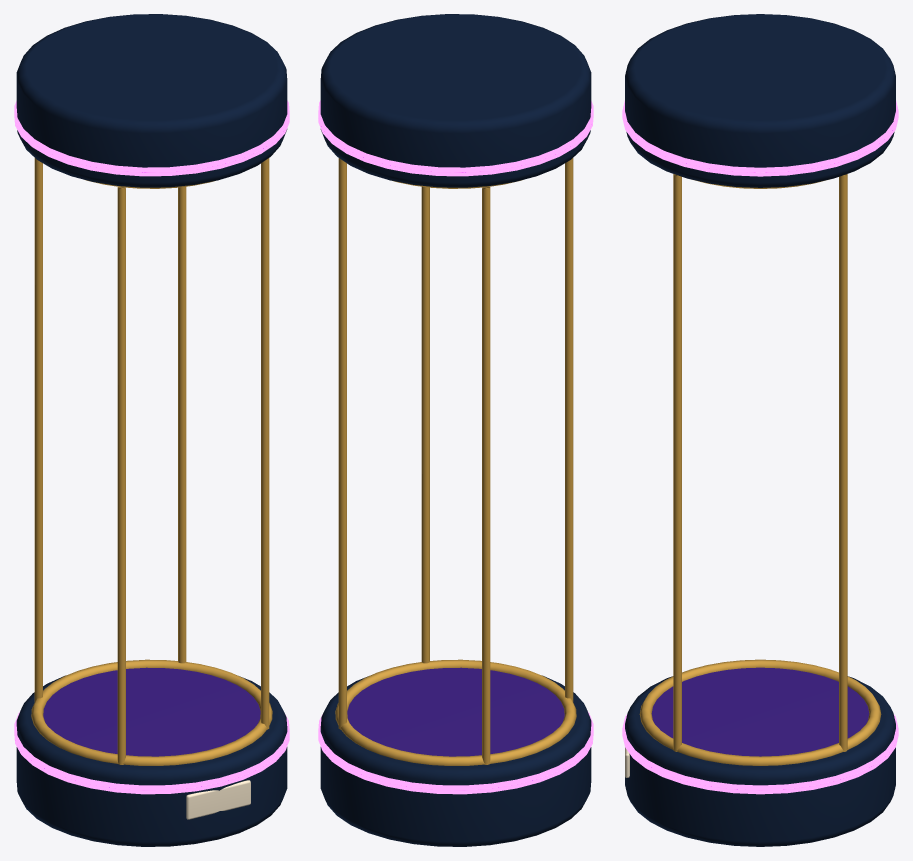
File: aqua_jelly_column.glb
3 views of the same model, side by side, from view 1: azimuth 30°, elevation 25°; view 2: azimuth 150°, elevation 25°; view 3: azimuth 270°, elevation 25° (orthographic).
Parts seen in each view (by area): view 1: JellyColumn; view 2: JellyColumn; view 3: JellyColumn.
Part boxes in pixels (<box>): JellyColumn: <box>14,14,289,846</box>; JellyColumn: <box>318,14,593,846</box>; JellyColumn: <box>622,14,898,846</box>.
Bounding box in the file's own units: 2.24 × 6.5 × 2.24.
